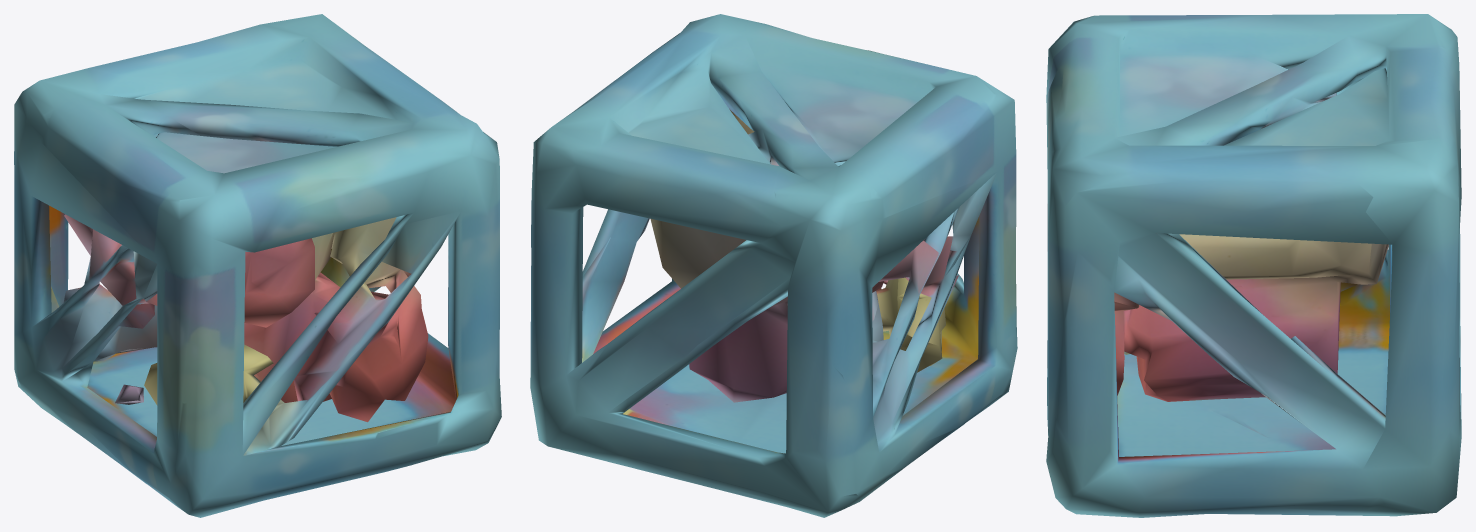
File: level1_ice.fbx
The picture shows the model from 3 angles, left to right: view 1: azimuth 30°, elevation 25°; view 2: azimuth 150°, elevation 25°; view 3: azimuth 270°, elevation 25°; orthographic projection. The views are drawn at different scales.
Parts seen in each view (by area): view 1: tripo_node_06c60100; view 2: tripo_node_06c60100; view 3: tripo_node_06c60100.
Part boxes in pixels (left/top/right/bottom): tripo_node_06c60100: left=14, top=14, right=501, bottom=517; tripo_node_06c60100: left=530, top=14, right=1017, bottom=517; tripo_node_06c60100: left=1046, top=14, right=1461, bottom=517.
Bounding box in the file's own units: 99.86 × 100 × 94.59.
1 material, 1 textured.
